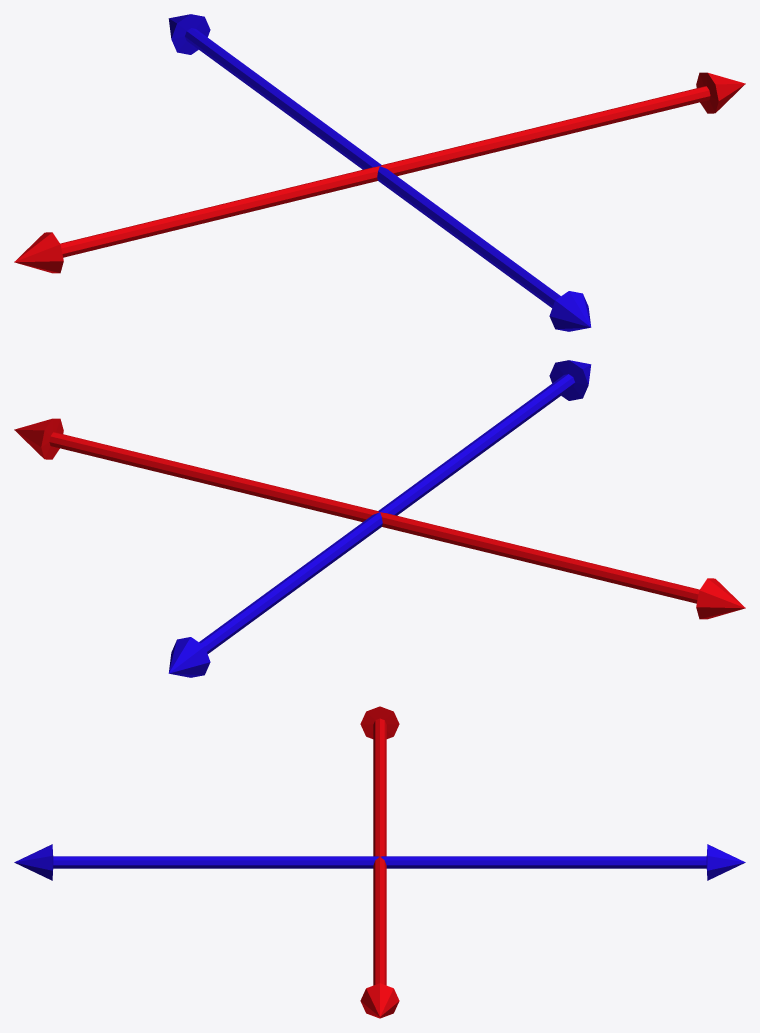
File: flechas_horizontal.fbx
3 views of the same model, one above another, from view 1: azimuth 30°, elevation 25°; view 2: azimuth 150°, elevation 25°; view 3: azimuth 270°, elevation 25° (orthographic). The views are drawn at different scales.
Visible parts, largest first — view 1: flechas_XZ; view 2: flechas_XZ; view 3: flechas_XZ.
Boxes of the visible parts, x1,y1,x2,y2 form: flechas_XZ: (14, 14, 745, 331); flechas_XZ: (14, 360, 745, 677); flechas_XZ: (14, 706, 745, 1018).
Bounding box in the file's own units: 112 × 6 × 112.
